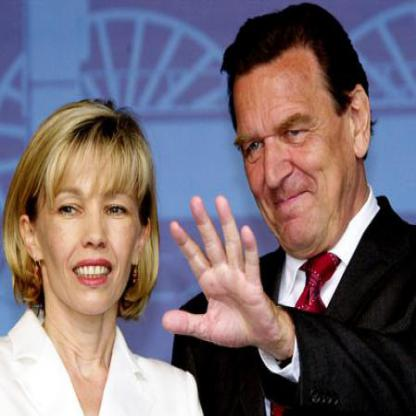face: (225, 24, 353, 255), (40, 115, 142, 317)
